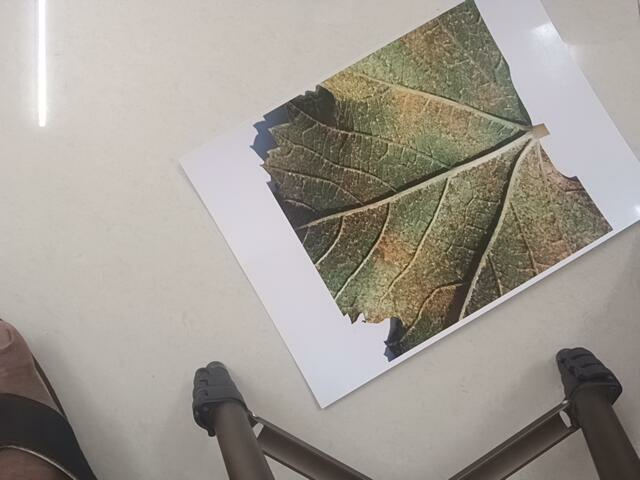Grape_Rust_Fungus: (249, 2, 606, 349)
